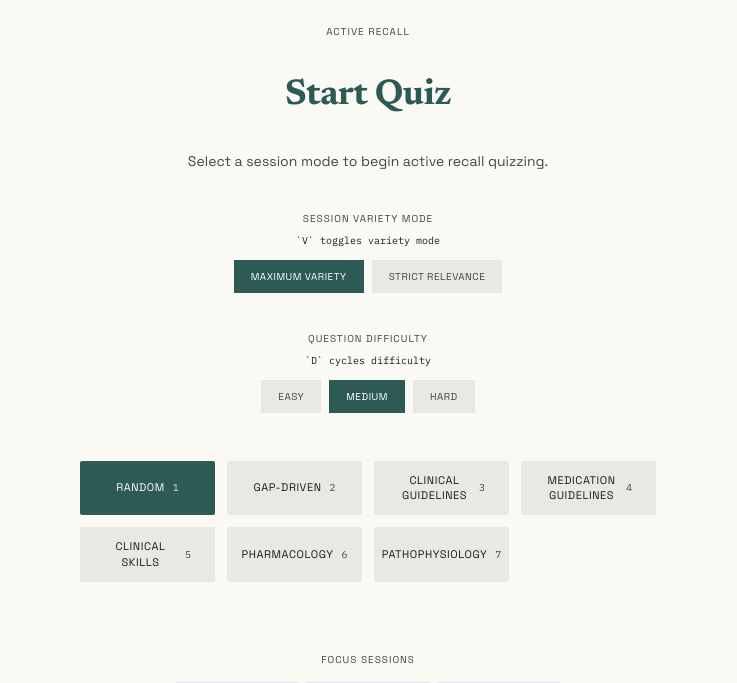
Scenario: Quiz page › submits with enter in the textarea and preserves newline with shift+enter
This screenshot has width=737, height=683.
Type keys "1"
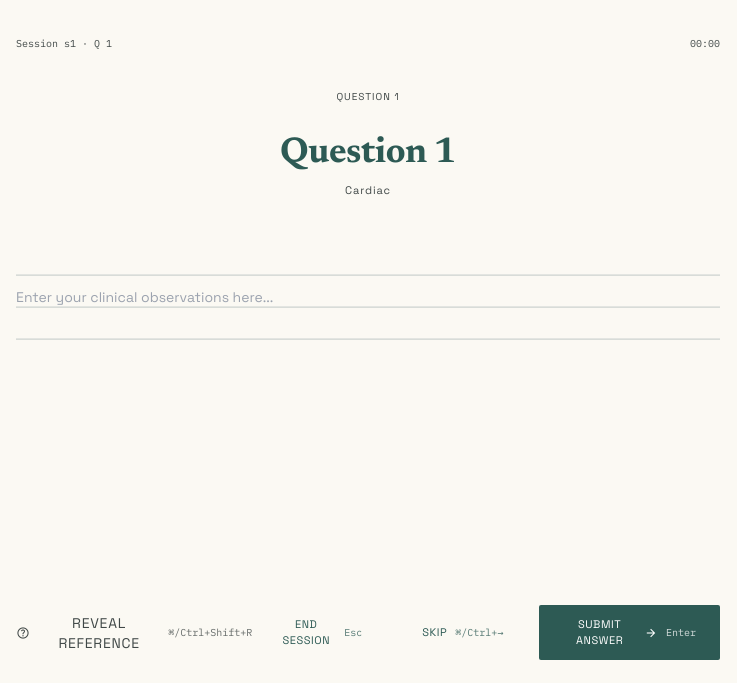
Check: the text box with placeholder "Enter your clinical observations here..." is shown
Type "line one" into the text box with placeholder "Enter your clinical observations here..." at [368, 305], box [16,249,720,361]
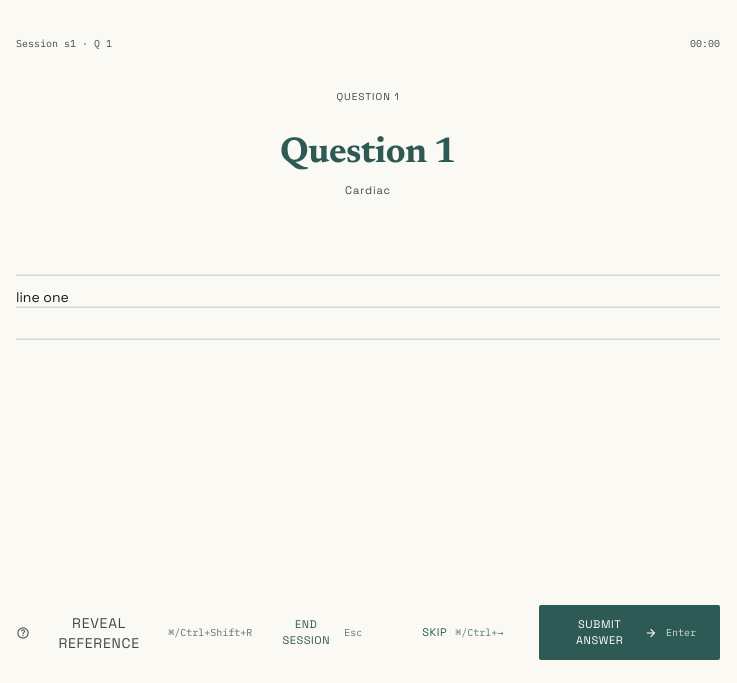
Type keys "{Shift>}{Enter}{/Shift}line two"
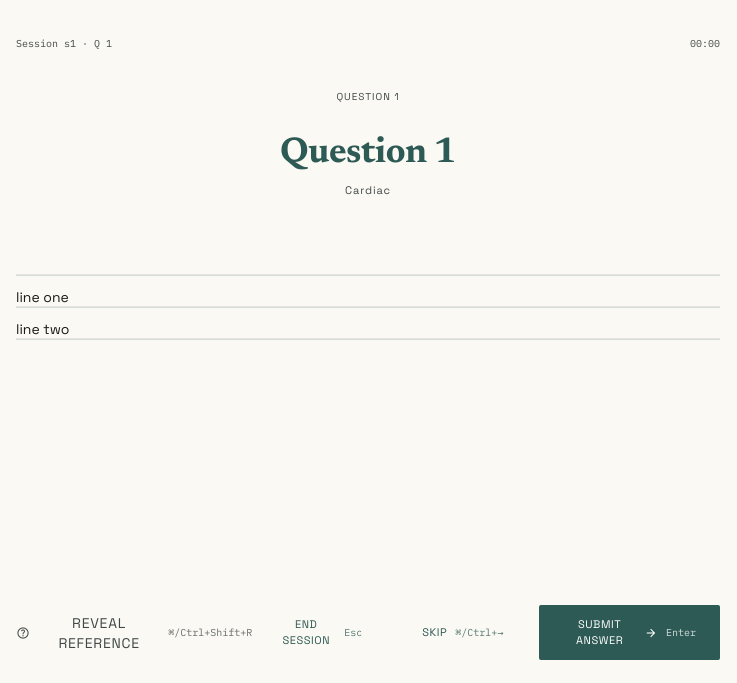
Press Enter
(page scrolled)
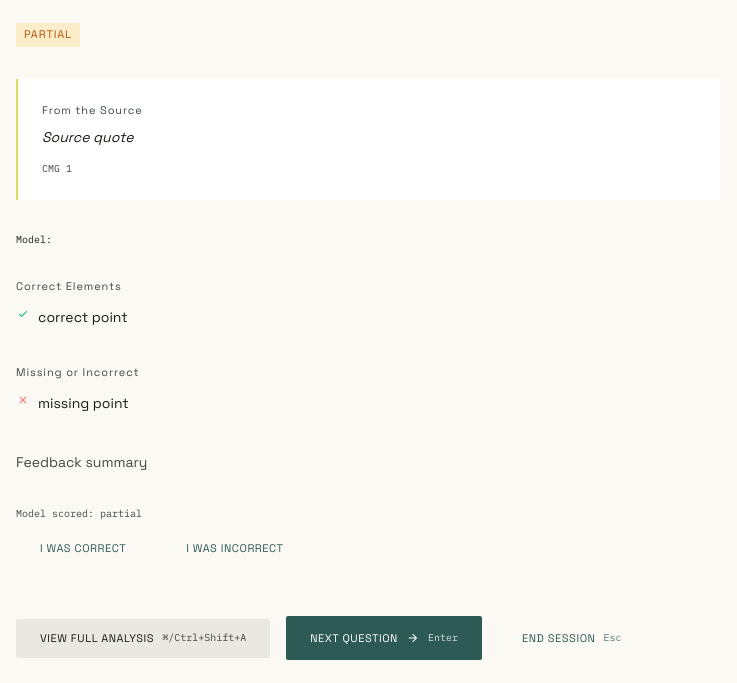
Check: the button "View Full Analysis ⌘/Ctrl+Shift+A" is shown, box [16,619,270,658]
